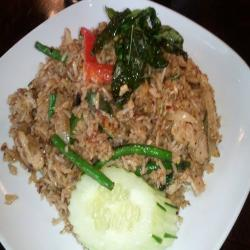rice: (8, 41, 221, 192)
